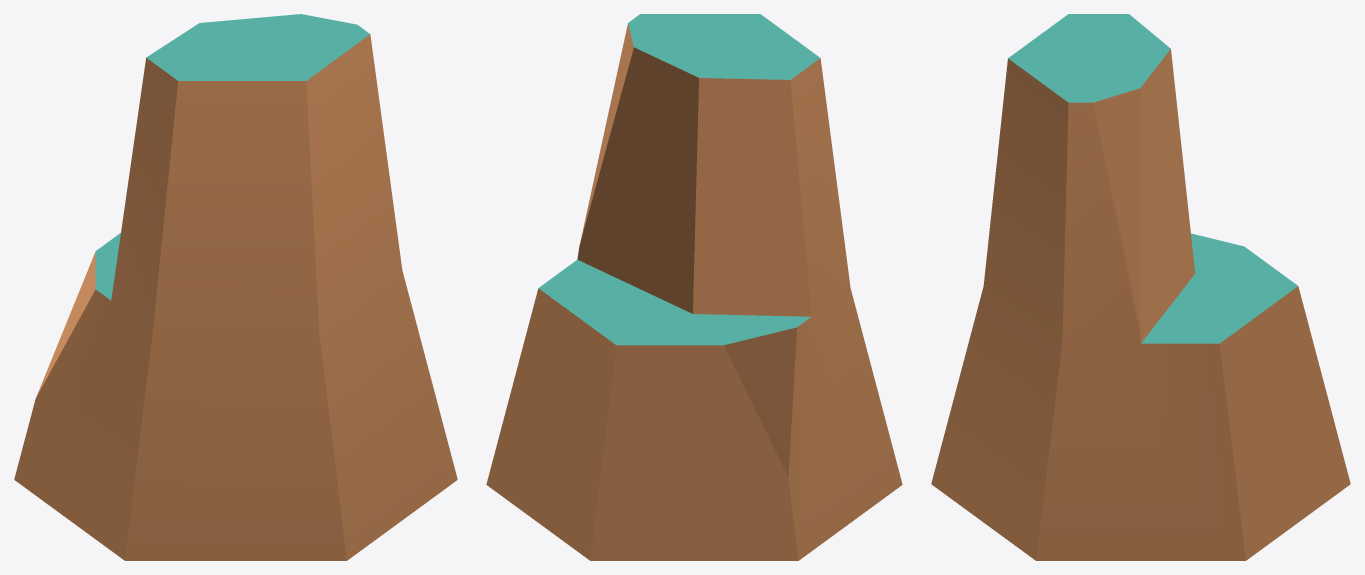
Rendered from rock_tall6.obj.
3 renders of one model, left to right at view 1: azimuth 30°, elevation 25°; view 2: azimuth 150°, elevation 25°; view 3: azimuth 270°, elevation 25°, orthographic. The views are drawn at different scales.
Visible parts, largest first — view 1: rock_tall6; view 2: rock_tall6; view 3: rock_tall6.
Part boxes in pixels (bbox=[...]): rock_tall6: bbox=[14, 14, 457, 560]; rock_tall6: bbox=[486, 14, 902, 560]; rock_tall6: bbox=[931, 14, 1350, 560].
Size of the model in its own units: 4.44 by 5.74 by 5.12.
